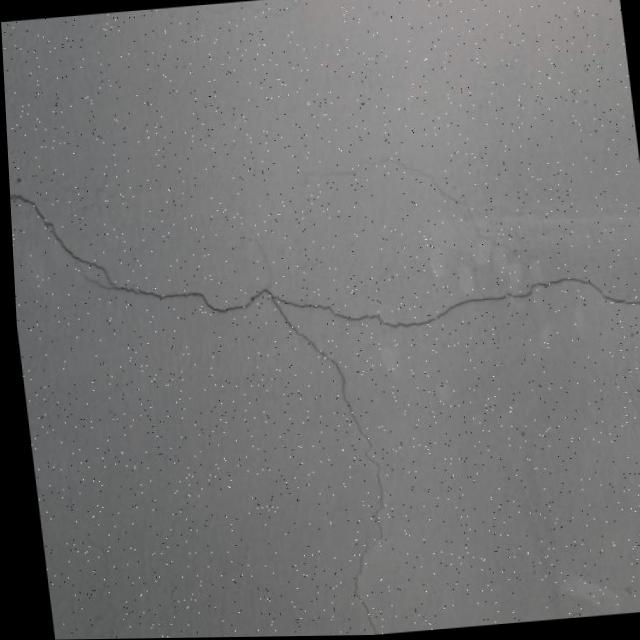Crack: (6, 132, 640, 640)
